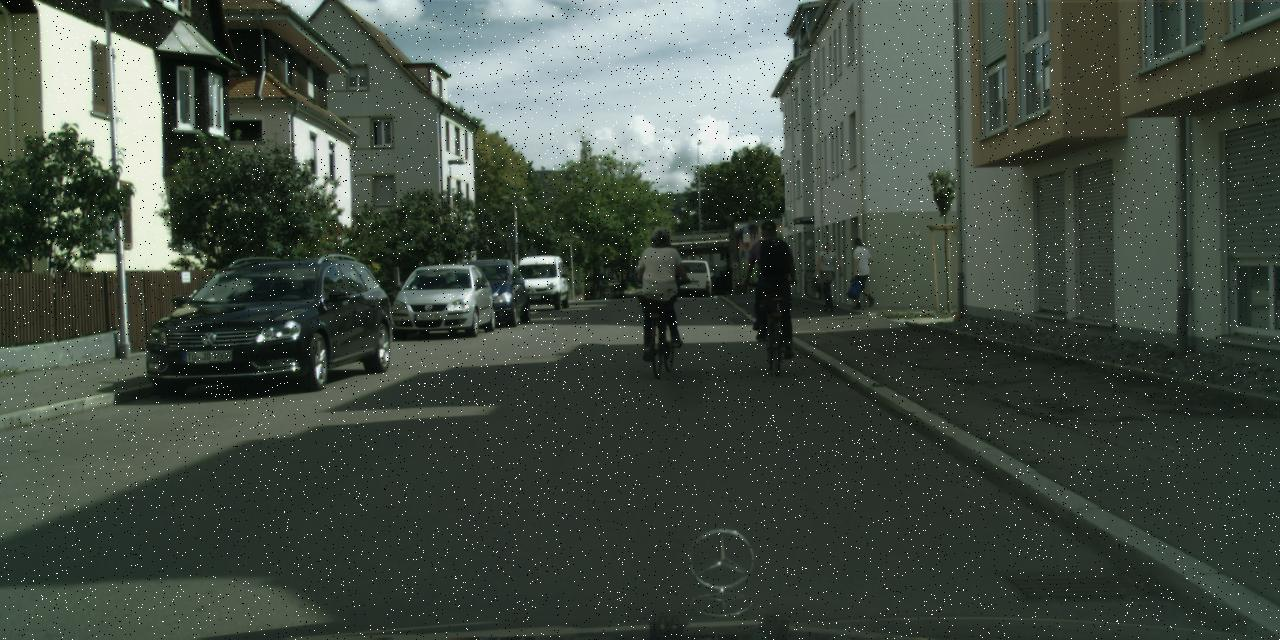ped: (636, 225, 688, 351), (746, 220, 798, 346), (813, 241, 842, 311), (847, 236, 875, 306)
